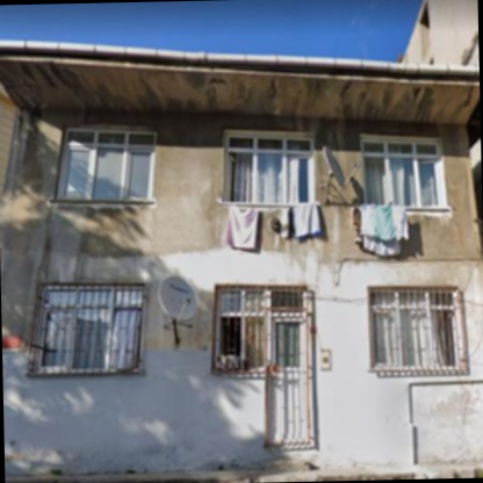door: (270, 317, 308, 443)
